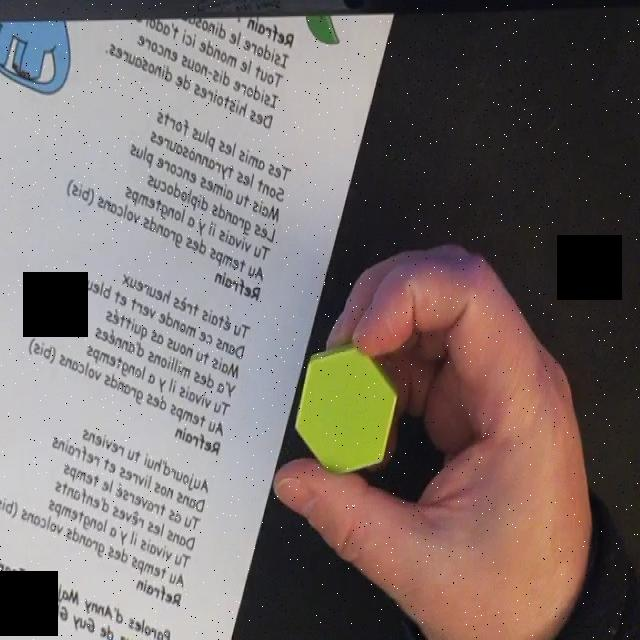hexagon: (294, 344, 399, 480)
